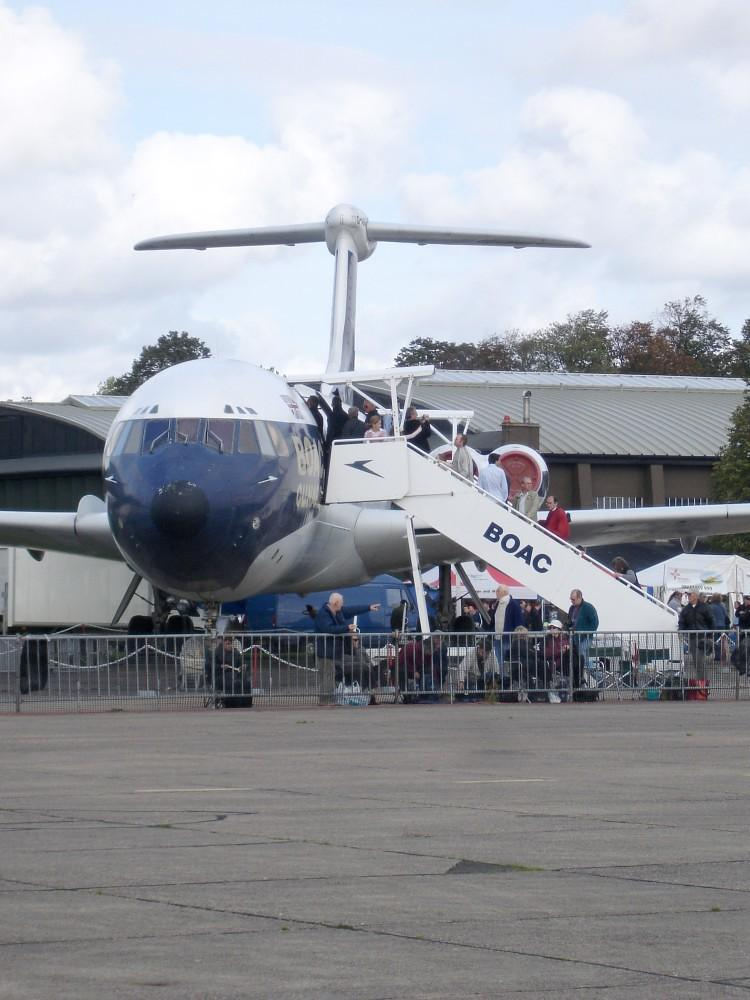plane: (1, 203, 750, 702)
